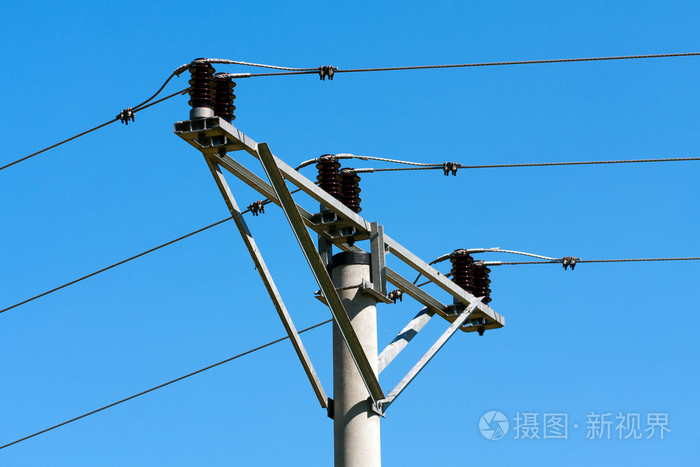insulator: (185, 62, 216, 107), (315, 155, 341, 200), (449, 253, 474, 298), (214, 77, 238, 123), (341, 170, 365, 213), (474, 261, 496, 305)
